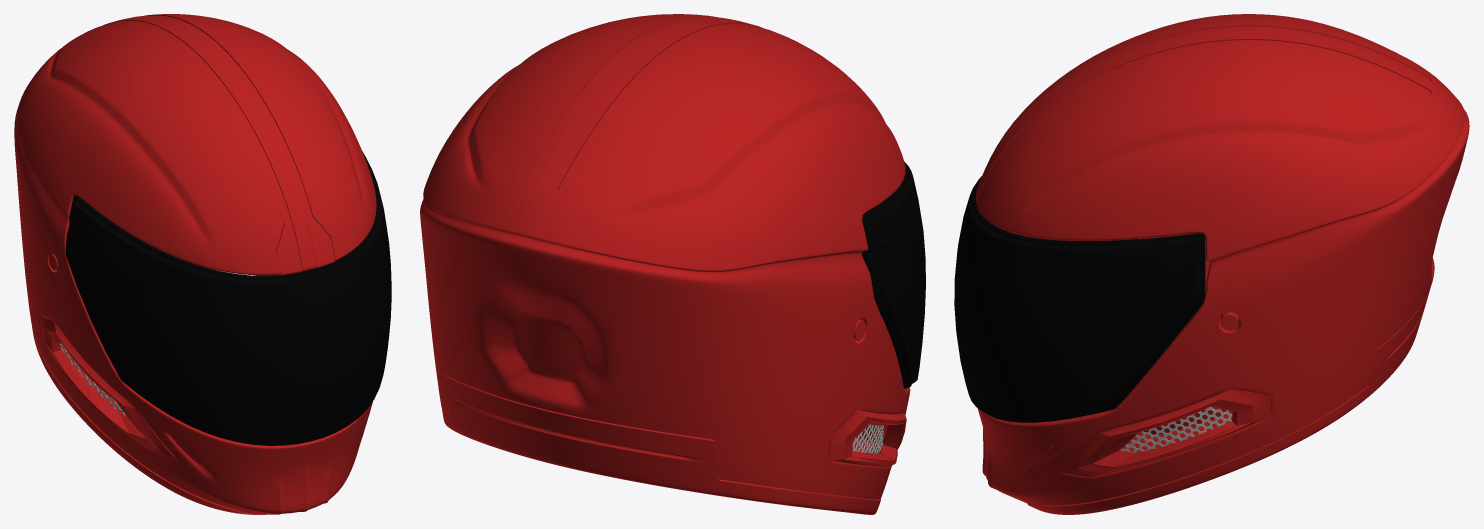
Rendered from capacete_elementza.glb.
3 views of the same model, side by side, from view 1: azimuth 30°, elevation 25°; view 2: azimuth 150°, elevation 25°; view 3: azimuth 270°, elevation 25° (orthographic). The views are drawn at different scales.
Parts seen in each view (by area): view 1: polySurface5, polySurface4, polySurface7, polySurface1; view 2: polySurface5, polySurface4, polySurface7, polySurface1, pCylinder21; view 3: polySurface5, polySurface4, polySurface1, polySurface7, pCylinder21.
Part boxes in pixels (<box>): polySurface5: <box>14,14,376,514</box>; polySurface4: <box>65,152,391,445</box>; polySurface7: <box>108,15,334,275</box>; polySurface1: <box>39,315,178,461</box>; polySurface5: <box>420,14,910,514</box>; polySurface4: <box>861,161,925,388</box>; polySurface7: <box>526,16,757,191</box>; polySurface1: <box>829,410,906,466</box>; pCylinder21: <box>852,424,883,453</box>; polySurface5: <box>976,14,1469,514</box>; polySurface4: <box>954,176,1205,422</box>; polySurface1: <box>1059,247,1270,476</box>; polySurface7: <box>976,26,1430,213</box>; pCylinder21: <box>1120,407,1232,452</box>.
Bounding box in the file's own units: 0.0753 × 0.0986 × 0.101.
